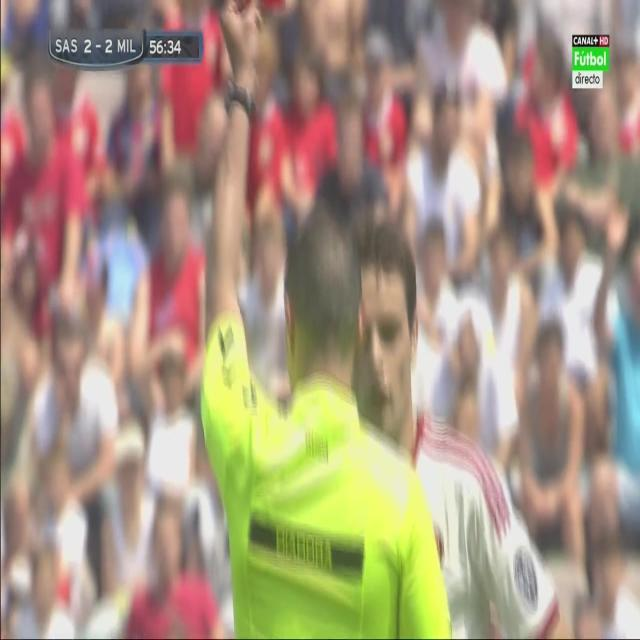Player: (353, 224, 565, 639)
Referee: (198, 2, 452, 640)
